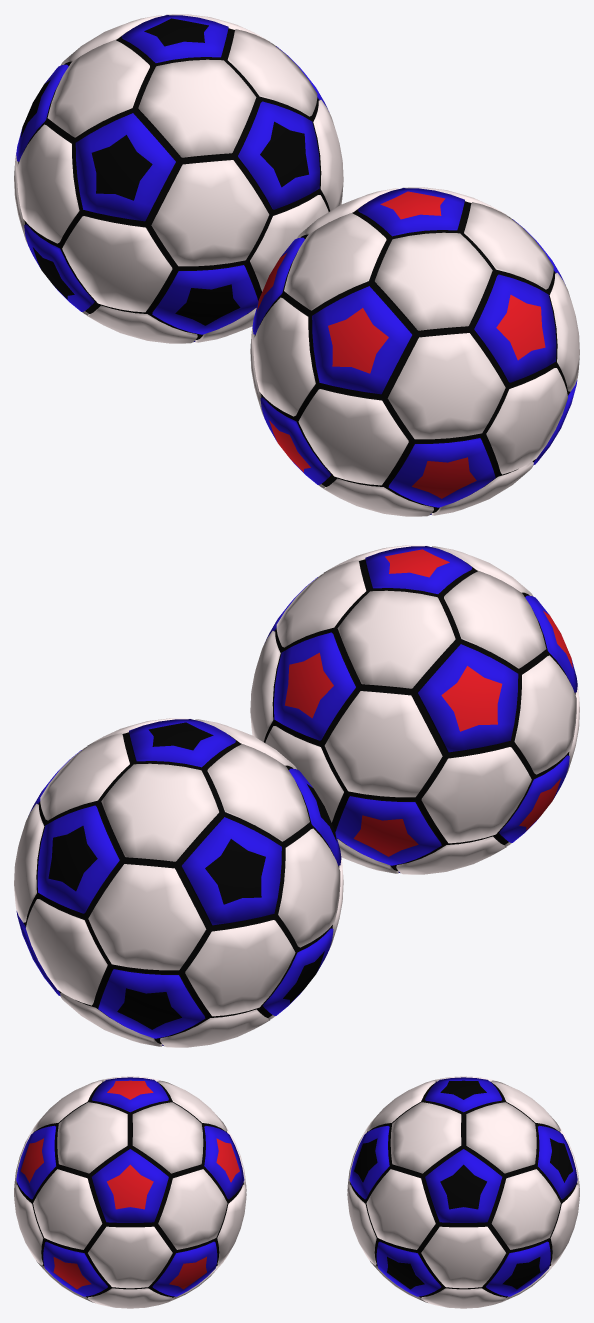
The model's file is pelotas.glb.
The picture shows the model from 3 angles, top to bottom: view 1: azimuth 30°, elevation 25°; view 2: azimuth 150°, elevation 25°; view 3: azimuth 270°, elevation 25°; orthographic projection. The views are drawn at different scales.
Parts seen in each view (by area): view 1: BallWhite, BallBlack; view 2: BallBlack, BallWhite; view 3: BallWhite, BallBlack.
Part boxes in pixels (x1,y1,x2,y2): BallWhite: (250,187,579,516); BallBlack: (14,14,343,343); BallBlack: (14,718,343,1047); BallWhite: (250,545,579,874); BallWhite: (14,1076,246,1308); BallBlack: (347,1076,579,1308).
Size of the model in its own units: 1.14 by 1.14 by 2.77.
